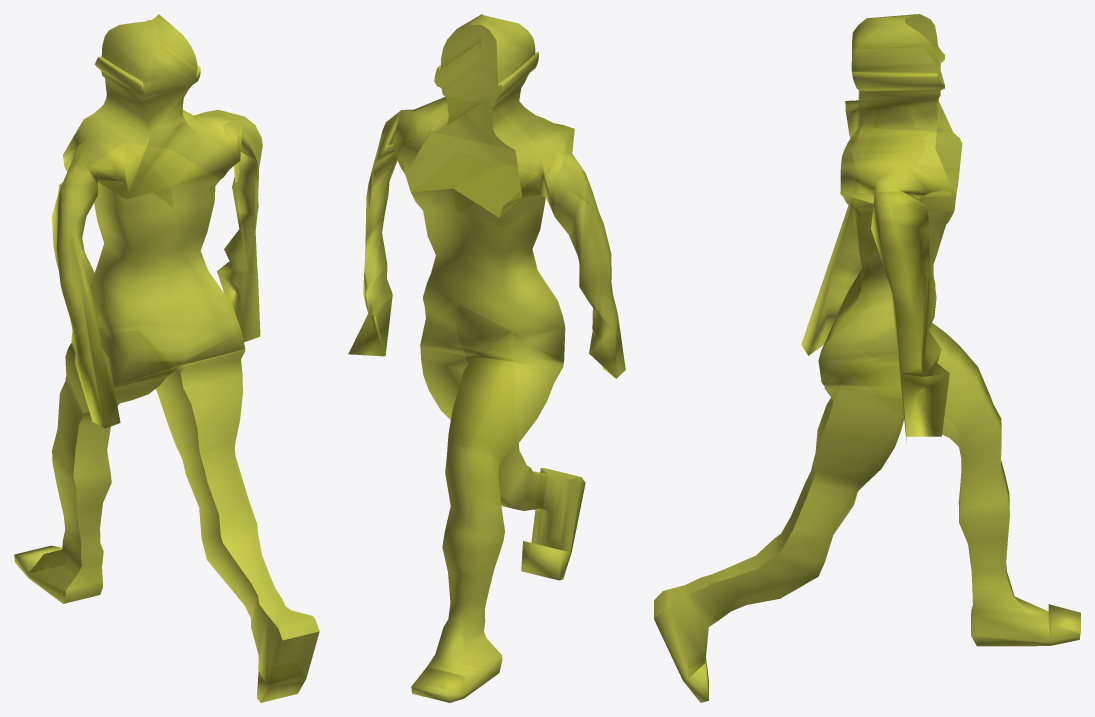
Rendered from woman_000031.obj.
3 views of the same model, side by side, from view 1: azimuth 30°, elevation 25°; view 2: azimuth 150°, elevation 25°; view 3: azimuth 270°, elevation 25° (orthographic). The views are drawn at different scales.
Visible parts, largest first — view 1: Cube_Cube.001; view 2: Cube_Cube.001; view 3: Cube_Cube.001.
Boxes of the visible parts, left/top/right/bottom form: Cube_Cube.001: left=14, top=14, right=319, bottom=702; Cube_Cube.001: left=348, top=14, right=625, bottom=702; Cube_Cube.001: left=654, top=14, right=1080, bottom=702.
Size of the model in its own units: 3.63 by 9.75 by 5.75.
